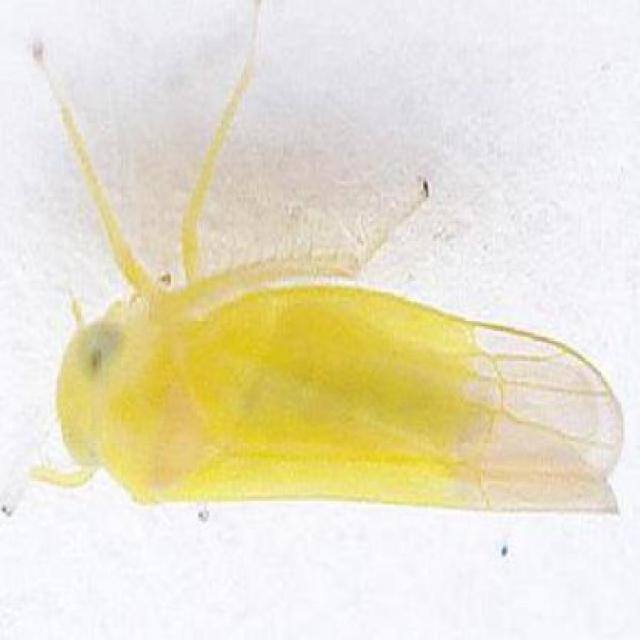green-leafhopper: (46, 254, 628, 534)
